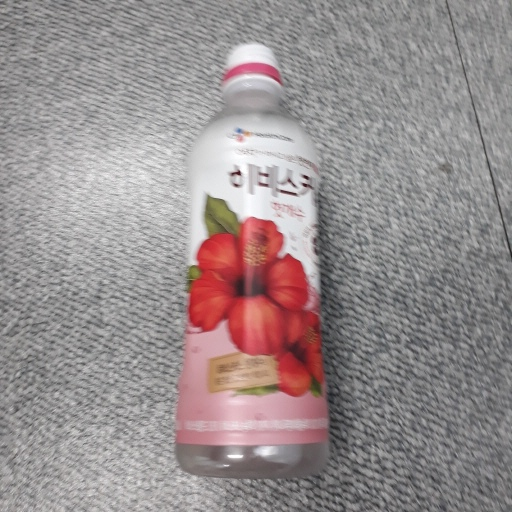Plastic_0: (170, 39, 333, 483)
